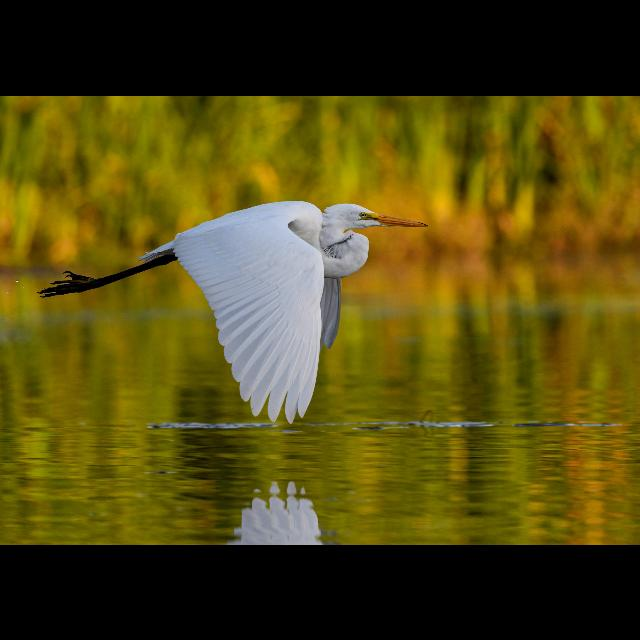egret: (43, 197, 435, 421)
